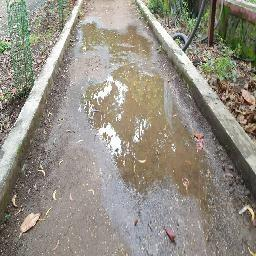water accumulation: (78, 20, 221, 201)
